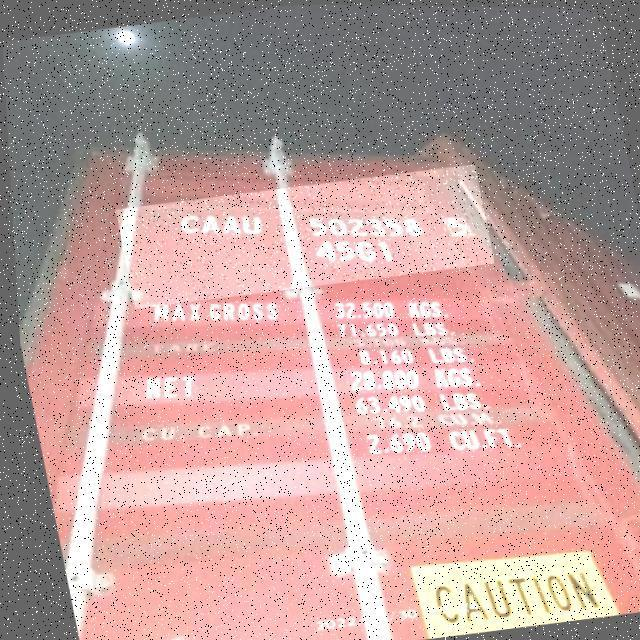container_number_h: (111, 158, 496, 313)
